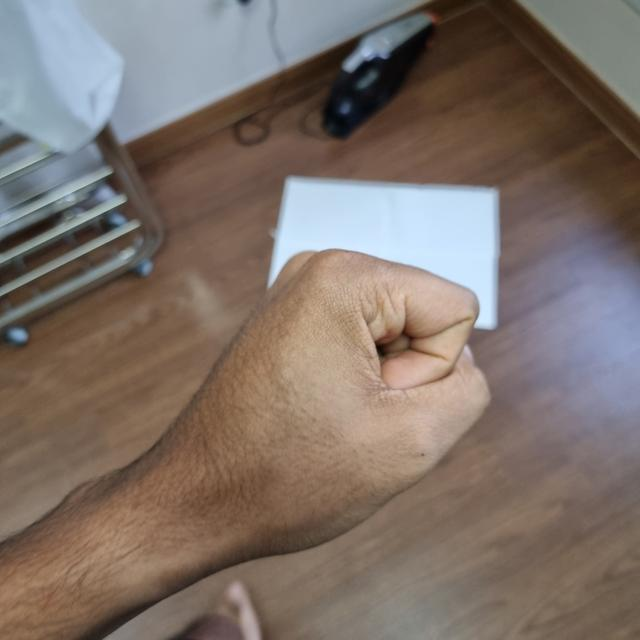Rock: (165, 252, 482, 543)
